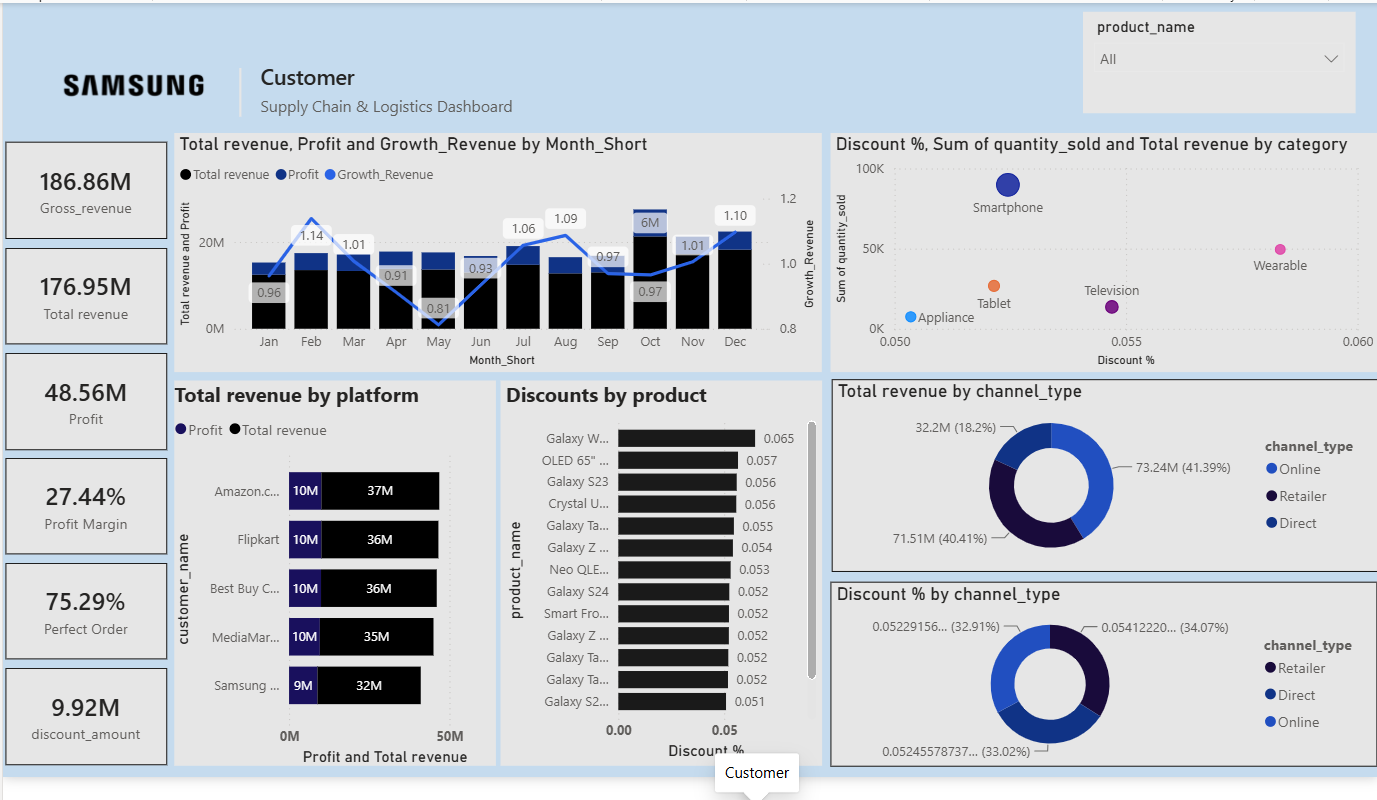

This screenshot's page, from the dashboard's own definition file:
{"tool":"powerbi","page":{"name":"Customer","canvas":[1280,720],"ordinal":5},"visuals":[{"type":"actionButton","title":"Customer","box":[239.5,54.7,239.5,66.3],"z":0},{"type":"actionButton","box":[0,0,237.2,152.3],"z":1000},{"type":"shape","box":[199,60.4,43.9,45.3],"z":2000},{"type":"cardVisual","fields":{"Data":["MeasuresTable.Total revenue"]},"box":[2.3,227.7,150,89.5],"z":3000},{"type":"cardVisual","fields":{"Data":["MeasuresTable.Profit"]},"box":[2.5,325.1,150,90.7],"z":4000},{"type":"cardVisual","fields":{"Data":["Sum(fact_sales.discount_amount)"]},"box":[2.3,618.6,150,90.7],"z":5000},{"type":"cardVisual","fields":{"Data":["MeasuresTable.Perfect_Order %"]},"box":[2.3,521.2,150,89.5],"z":6000},{"type":"cardVisual","fields":{"Data":["MeasuresTable.Profit Margin %"]},"box":[2.3,423.7,150,89.5],"z":7000},{"type":"cardVisual","fields":{"Data":["Sum(fact_sales.gross_revenue)"]},"box":[2.3,129.1,150,90.7],"z":8000},{"type":"barChart","title":"Total revenue by platform","fields":{"Category":["dim_customer.customer_name"],"Y":["MeasuresTable.Profit","MeasuresTable.Total revenue"]},"box":[159.3,351.2,298.8,358.1],"z":9000},{"type":"donutChart","fields":{"Y":["MeasuresTable.Total revenue"],"Category":["dim_customer.channel_type"]},"box":[770.7,350,509.3,179.1],"z":10000},{"type":"donutChart","fields":{"Category":["dim_customer.channel_type"],"Y":["MeasuresTable.Discount %"]},"box":[769.8,538.4,509.3,172.1],"z":11000},{"type":"lineStackedColumnComboChart","fields":{"Category":["dim_date.Month_Short"],"Y":["MeasuresTable.Total revenue","MeasuresTable.Profit"],"Y2":["MeasuresTable.Growth_Revenue"]},"box":[159.3,120.9,602.3,222.1],"z":12000},{"type":"barChart","title":"Discounts by product","fields":{"Category":["dim_product.product_name"],"Y":["MeasuresTable.Discount %"]},"box":[462.8,351.2,298.8,358.1],"z":13000},{"type":"scatterChart","fields":{"X":["MeasuresTable.Discount %"],"Y":["Sum(fact_sales.quantity_sold)"],"Series":["dim_product.category"],"Size":["MeasuresTable.Total revenue"]},"box":[769.8,120.9,510.5,222.1],"z":14000},{"type":"slicer","fields":{"Values":["dim_product.product_name"]},"box":[1004.7,8.1,253.5,94.2],"z":15000}]}

Visuals, with their boxes on the page's 1280x720 design canvas (x1, y1, x2, y2). These are canvas units, not pixel positions in the 1377x800 screenshot, which may show the page scaled, cropped or inside an application window:
"Customer" actionButton: (left=240, top=55, right=479, bottom=121)
actionButton: (left=0, top=0, right=237, bottom=152)
shape: (left=199, top=60, right=243, bottom=106)
cardVisual - MeasuresTable.Total revenue: (left=2, top=228, right=152, bottom=317)
cardVisual - MeasuresTable.Profit: (left=2, top=325, right=152, bottom=416)
cardVisual - Sum(fact_sales.discount_amount): (left=2, top=619, right=152, bottom=709)
cardVisual - MeasuresTable.Perfect_Order %: (left=2, top=521, right=152, bottom=611)
cardVisual - MeasuresTable.Profit Margin %: (left=2, top=424, right=152, bottom=513)
cardVisual - Sum(fact_sales.gross_revenue): (left=2, top=129, right=152, bottom=220)
"Total revenue by platform" barChart: (left=159, top=351, right=458, bottom=709)
donutChart - MeasuresTable.Total revenue x dim_customer.channel_type: (left=771, top=350, right=1280, bottom=529)
donutChart - dim_customer.channel_type x MeasuresTable.Discount %: (left=770, top=538, right=1279, bottom=710)
lineStackedColumnComboChart - dim_date.Month_Short x MeasuresTable.Total revenue: (left=159, top=121, right=762, bottom=343)
"Discounts by product" barChart: (left=463, top=351, right=762, bottom=709)
scatterChart - MeasuresTable.Discount % x Sum(fact_sales.quantity_sold): (left=770, top=121, right=1280, bottom=343)
slicer - dim_product.product_name: (left=1005, top=8, right=1258, bottom=102)
